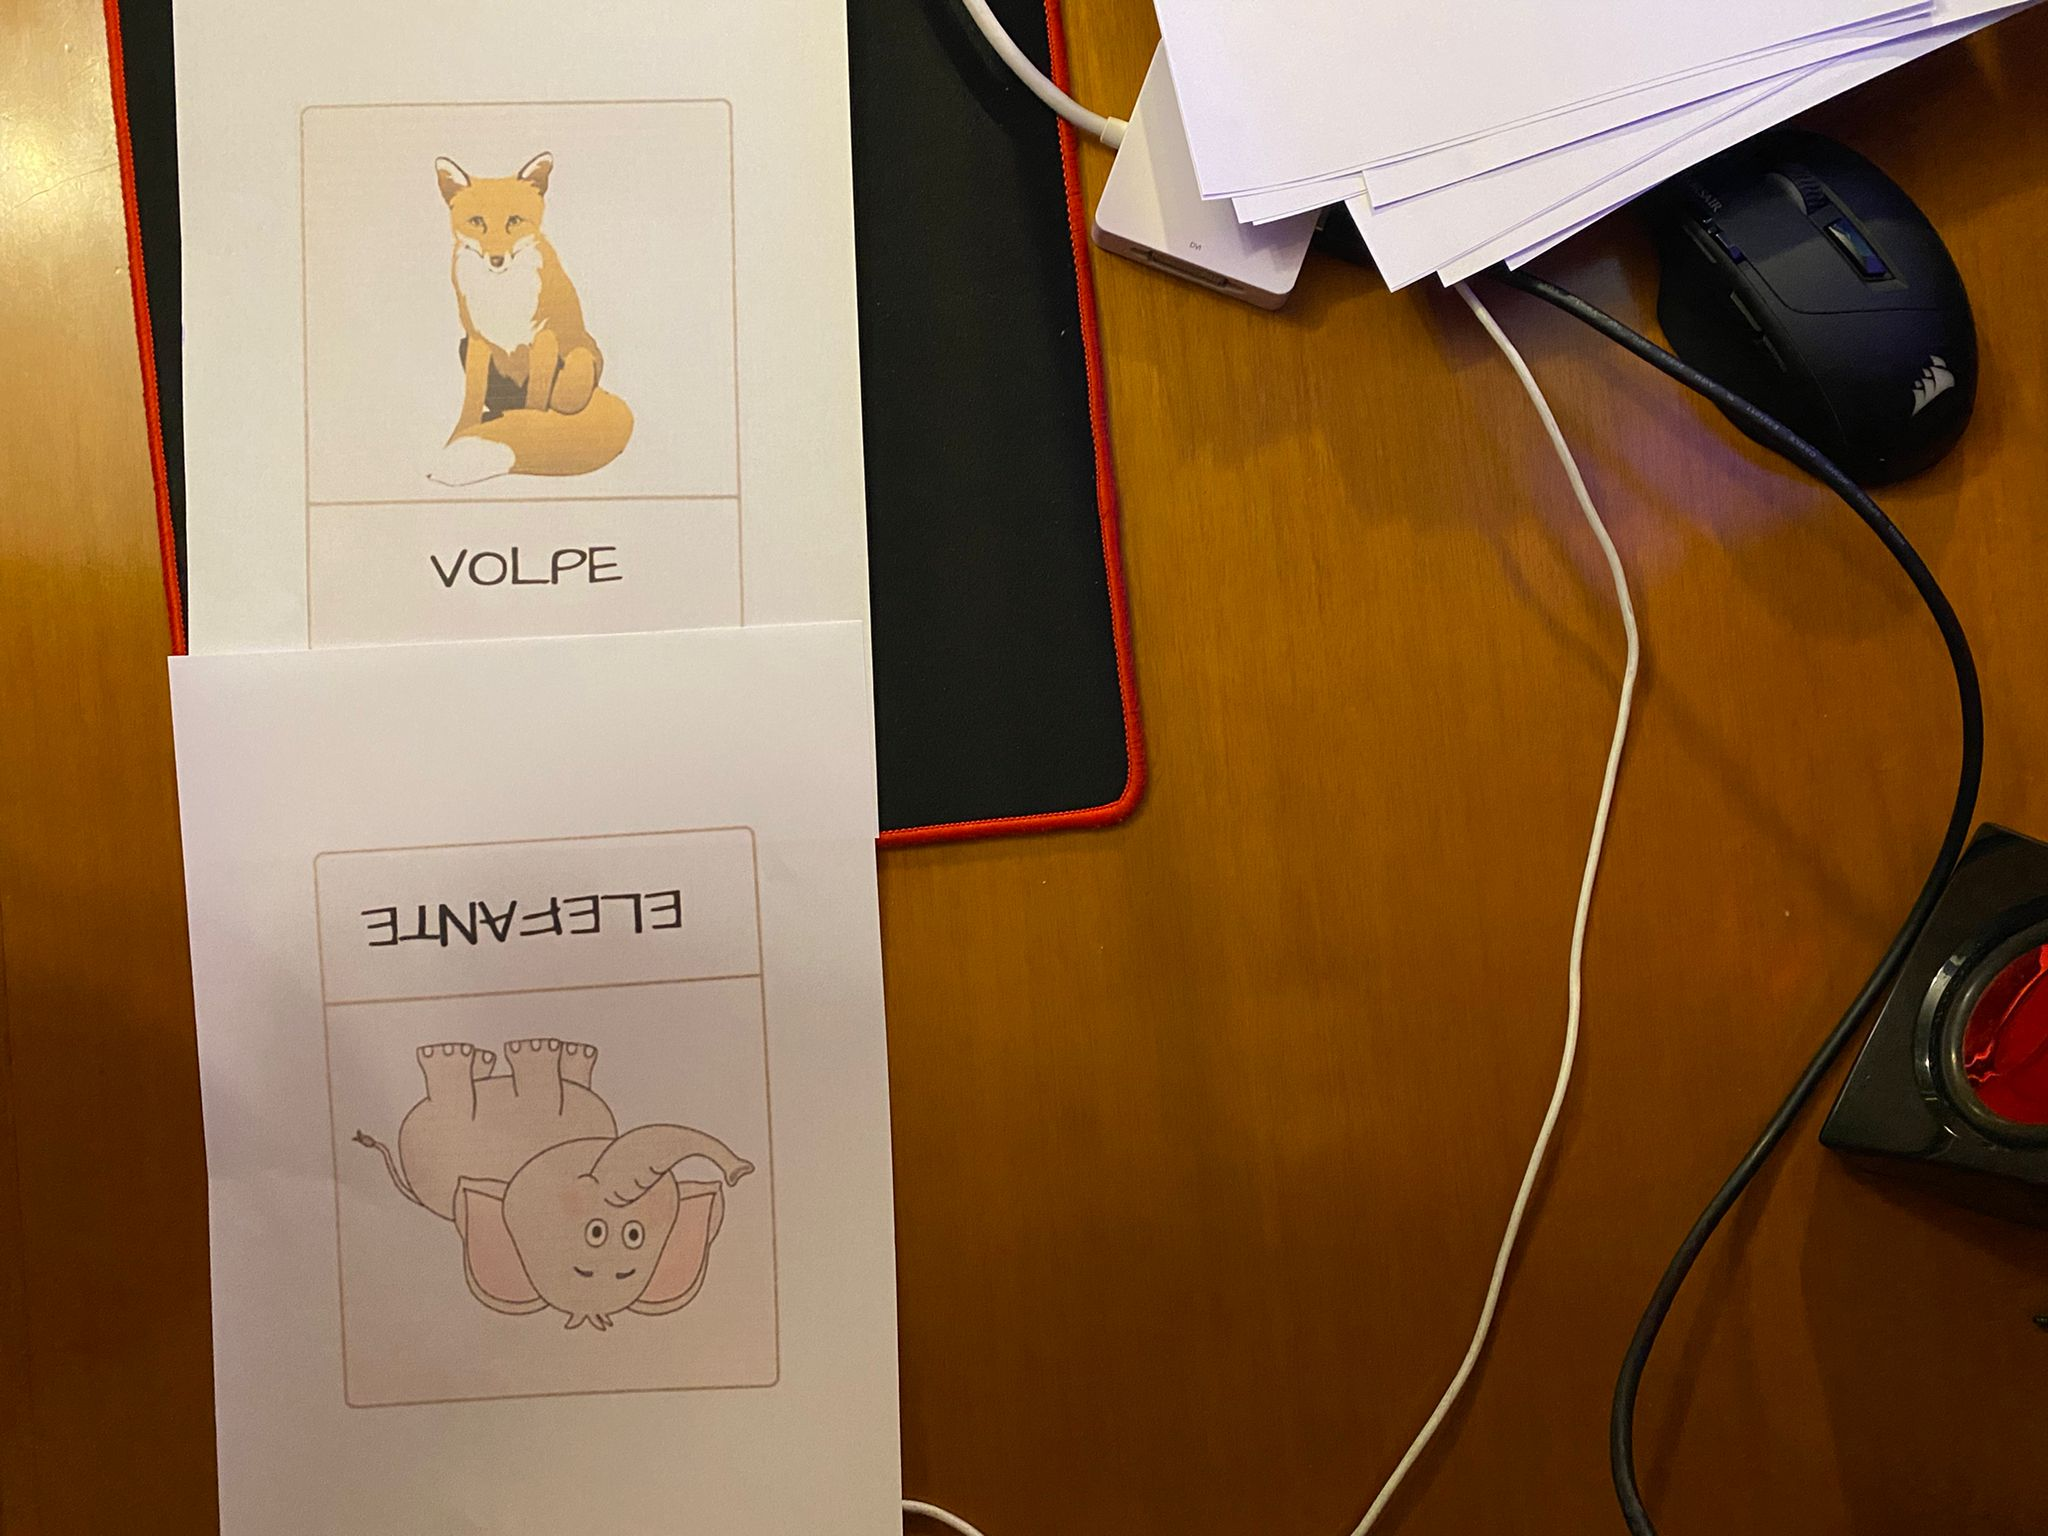elefante: (322, 854, 785, 1396)
volpe: (310, 119, 743, 635)
